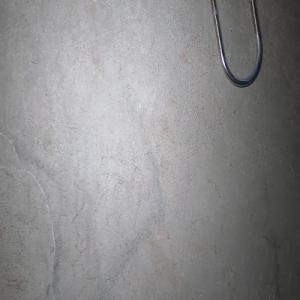ClampPart: (210, 0, 263, 88)
